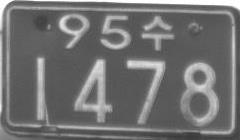1: (21, 57, 59, 121)
4: (73, 57, 113, 123)
5: (99, 13, 132, 50)
7: (125, 57, 166, 125)
8: (179, 60, 220, 129)
9: (58, 12, 90, 49)
수: (142, 14, 175, 51)
